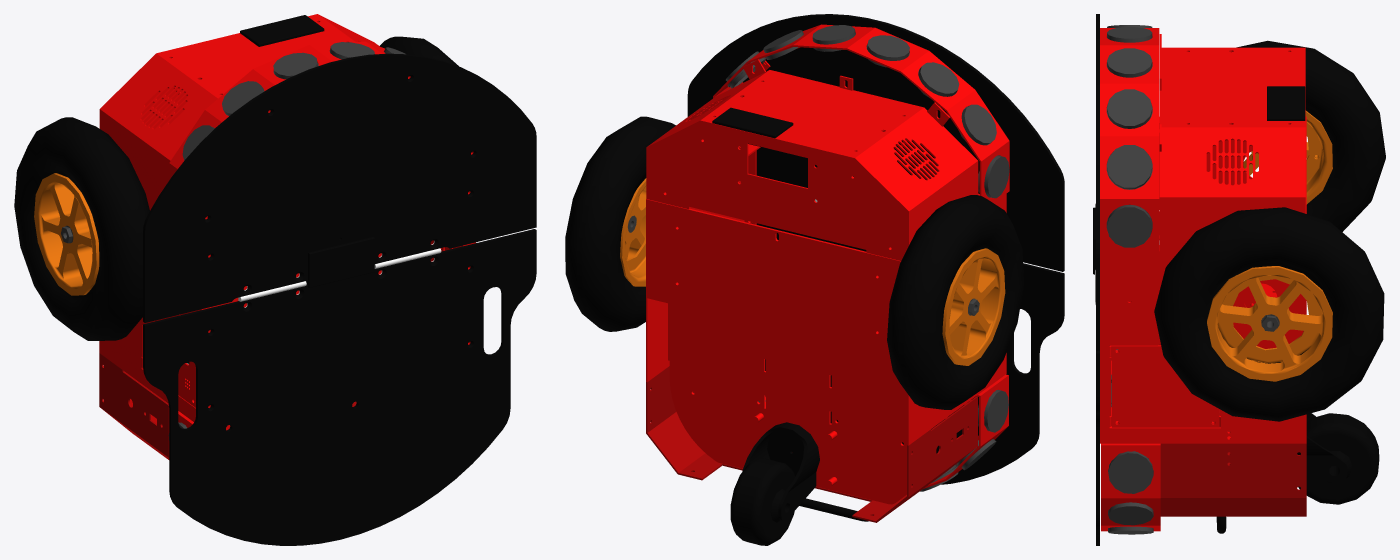
The model's file is Pioneer3DXAssembly.obj.
3 views of the same model, side by side, from view 1: azimuth 30°, elevation 25°; view 2: azimuth 150°, elevation 25°; view 3: azimuth 270°, elevation 25° (orthographic). The views are drawn at different scales.
Parts seen in each view (by area): view 1: Solid6, Solid2, Solid4:2, Solid9, Solid1:2, Solid85, Solid1, Solid3, Solid11, Solid118, Solid4:1, Solid18 (+2 smaller); view 2: Solid1, Solid9, Solid2, Solid4:2, Solid4:1, Solid85, Solid6, Solid11, Solid1:2, Solid1:4, Solid1:3, Solid118 (+9 smaller); view 3: Solid4:1, Solid9, Solid1, Solid85, Solid4:2, Solid1:1, Solid11, Solid37, Solid1:4, Solid21, Solid2:1, Solid2:2 (+12 smaller).
Part boxes in pixels (x1=…): Solid6: x1=143, y1=229, x2=536, y2=545; Solid2: x1=143, y1=53, x2=536, y2=322; Solid4:2: x1=14, y1=117, x2=149, y2=340; Solid9: x1=99, y1=14, x2=379, y2=202; Solid1:2: x1=34, y1=173, x2=99, y2=295; Solid85: x1=99, y1=353, x2=356, y2=459; Solid1: x1=99, y1=191, x2=475, y2=430; Solid3: x1=306, y1=237, x2=374, y2=287; Solid11: x1=169, y1=41, x2=473, y2=219; Solid118: x1=240, y1=15, x2=324, y2=46; Solid4:1: x1=380, y1=36, x2=458, y2=66; Solid18: x1=273, y1=52, x2=318, y2=79; Solid1: x1=646, y1=144, x2=1006, y2=504; Solid9: x1=646, y1=59, x2=978, y2=260; Solid2: x1=687, y1=14, x2=1064, y2=271; Solid4:2: x1=887, y1=195, x2=1023, y2=409; Solid4:1: x1=565, y1=116, x2=675, y2=331; Solid85: x1=646, y1=366, x2=977, y2=522; Solid6: x1=756, y1=223, x2=1064, y2=484; Solid11: x1=713, y1=24, x2=1009, y2=202; Solid1:2: x1=942, y1=248, x2=1005, y2=365; Solid1:4: x1=730, y1=458, x2=794, y2=545; Solid1:3: x1=742, y1=422, x2=819, y2=521; Solid118: x1=712, y1=107, x2=793, y2=150; Solid4:1: x1=1154, y1=207, x2=1384, y2=421; Solid9: x1=1159, y1=34, x2=1305, y2=251; Solid1: x1=1100, y1=116, x2=1306, y2=443; Solid85: x1=1160, y1=409, x2=1306, y2=516; Solid4:2: x1=1236, y1=40, x2=1385, y2=231; Solid1:1: x1=1207, y1=266, x2=1332, y2=381; Solid11: x1=1100, y1=28, x2=1159, y2=251; Solid37: x1=1112, y1=345, x2=1218, y2=427; Solid1:4: x1=1298, y1=413, x2=1379, y2=504; Solid21: x1=1101, y1=344, x2=1160, y2=531; Solid2:1: x1=1217, y1=275, x2=1322, y2=363; Solid2:2: x1=1305, y1=110, x2=1332, y2=204.
Size of the model in its own units: 0.381 by 0.4443 by 0.2446.
